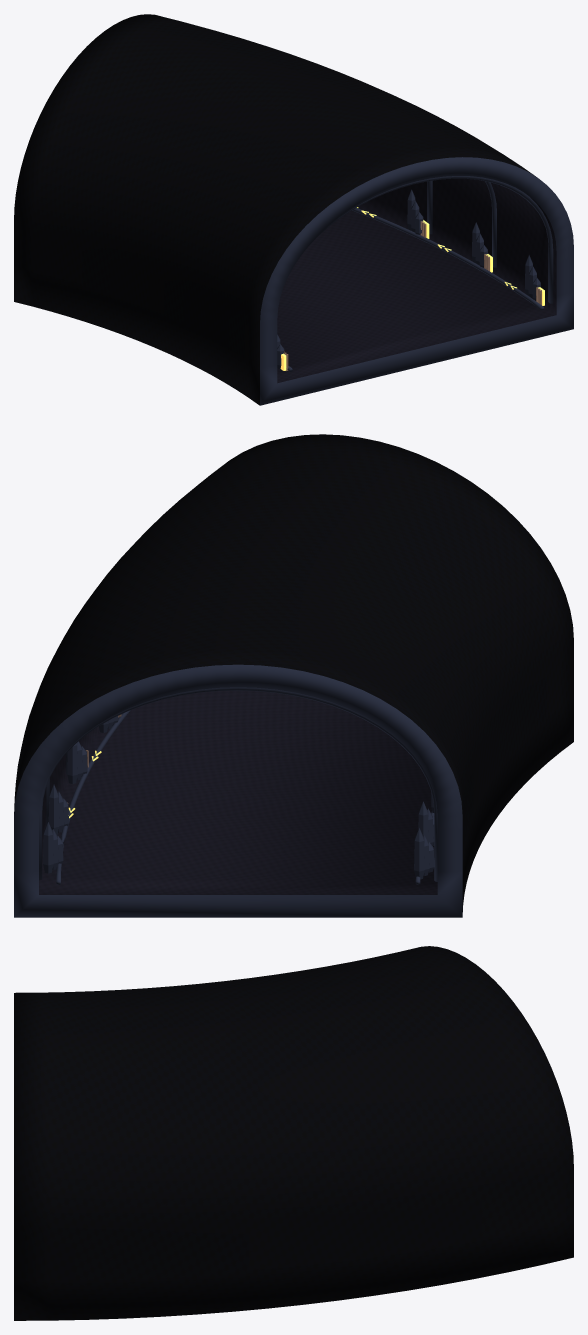
File: curve_left_30.glb
The picture shows the model from 3 angles, top to bottom: view 1: azimuth 30°, elevation 25°; view 2: azimuth 150°, elevation 25°; view 3: azimuth 270°, elevation 25°; orthographic projection. The views are drawn at different scales.
Parts seen in each view (by area): view 1: TunnelGeometry; view 2: TunnelGeometry; view 3: TunnelGeometry.
Boxes of the visible parts, x1,y1,x2,y2 form: TunnelGeometry: (14,14,573,405); TunnelGeometry: (14,434,573,917); TunnelGeometry: (14,946,573,1320).
Size of the model in its own units: 19.1 by 9.52 by 21.83.
5 materials, 2 textured.
